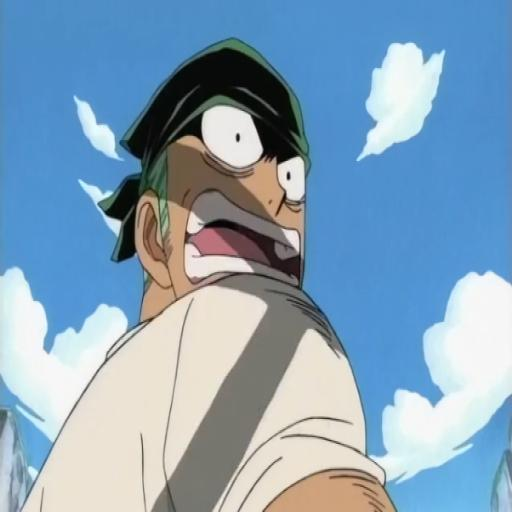Zoro: (36, 47, 374, 512)
